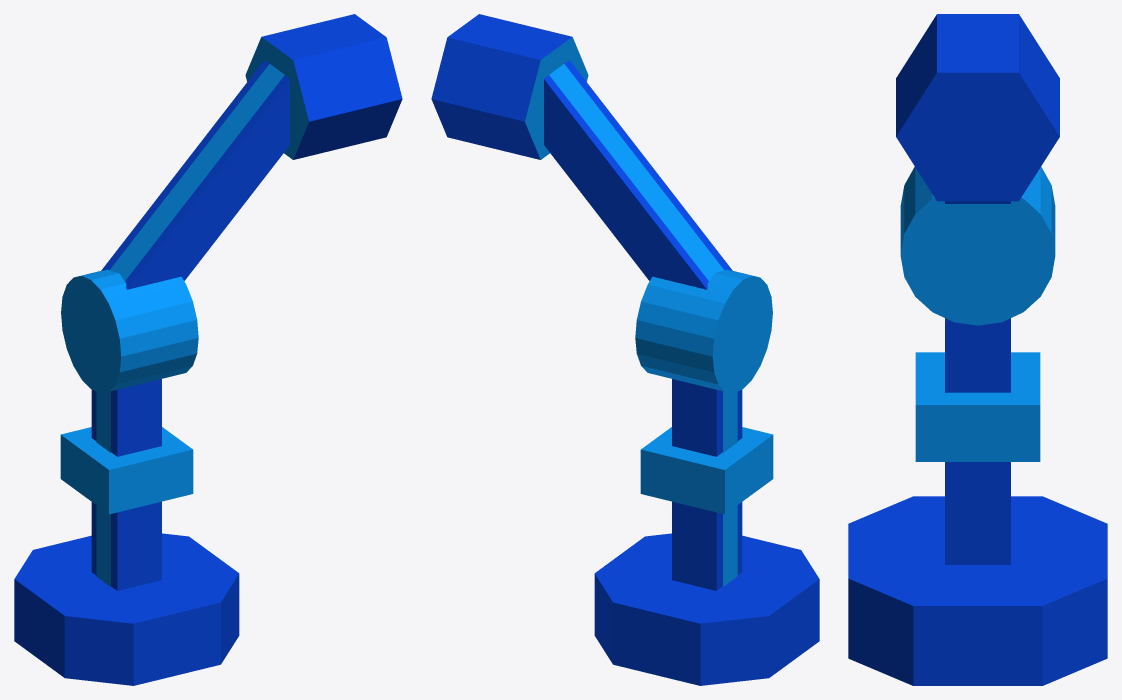
Rendered from Building_038_e.fbx.
The picture shows the model from 3 angles, left to right: view 1: azimuth 30°, elevation 25°; view 2: azimuth 150°, elevation 25°; view 3: azimuth 270°, elevation 25°; orthographic projection. The views are drawn at different scales.
Parts seen in each view (by area): view 1: Building_038_e; view 2: Building_038_e; view 3: Building_038_e.
Part boxes in pixels (box(x1,y1,x2,y2)): Building_038_e: box(14, 14, 402, 685); Building_038_e: box(431, 14, 819, 685); Building_038_e: box(848, 14, 1107, 685).
Bounding box in the file's own units: 6 × 9.58 × 3.16.
